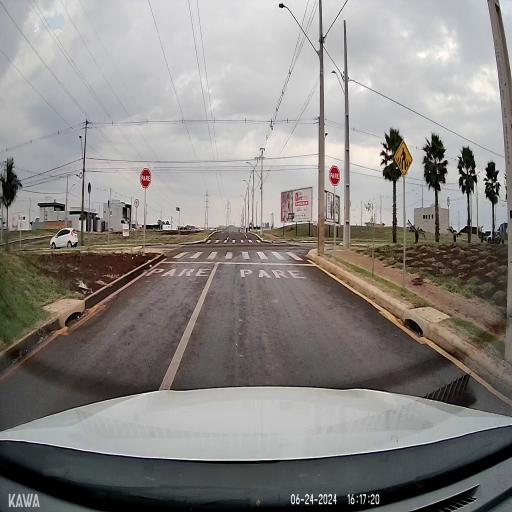A-32b: (395, 138, 413, 176)
R-1: (140, 168, 152, 189), (330, 166, 340, 186)
